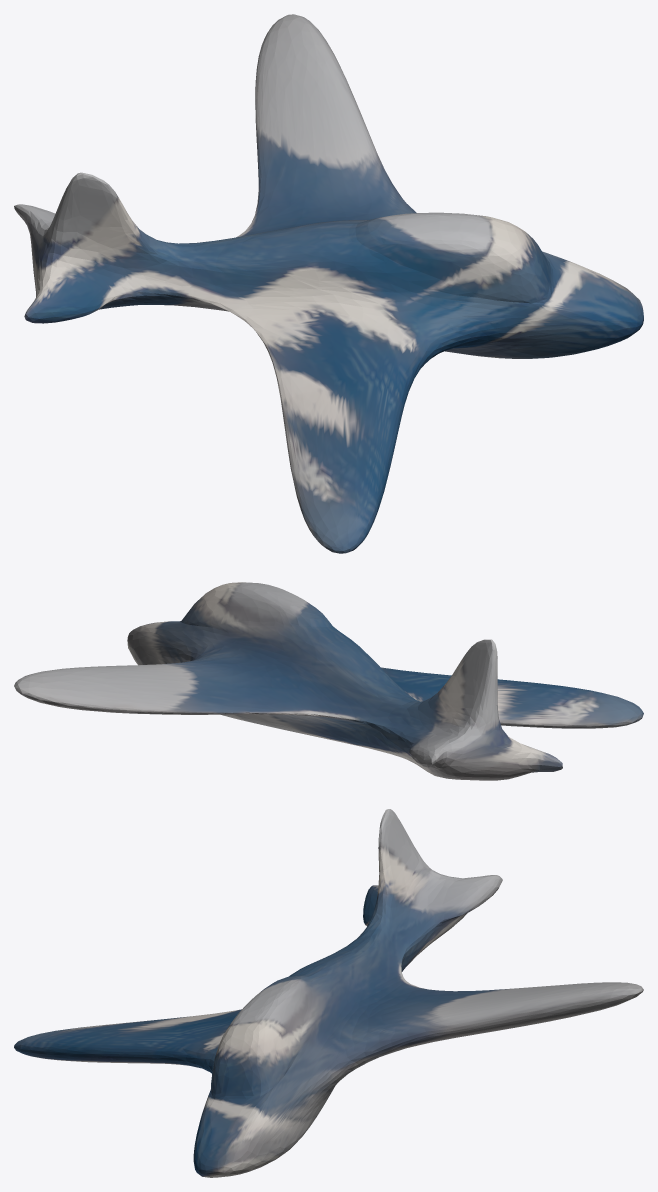
3 views of the same model, one above another, from view 1: azimuth 30°, elevation 25°; view 2: azimuth 150°, elevation 25°; view 3: azimuth 270°, elevation 25° (orthographic). The views are drawn at different scales.
Parts seen in each view (by area): view 1: geometry_0; view 2: geometry_0; view 3: geometry_0.
Boxes of the visible parts, x1,y1,x2,y2 form: geometry_0: (14,14,643,553); geometry_0: (14,582,643,780); geometry_0: (14,809,643,1177).
Bounding box in the file's own units: 0.87 × 0.3798 × 1.
